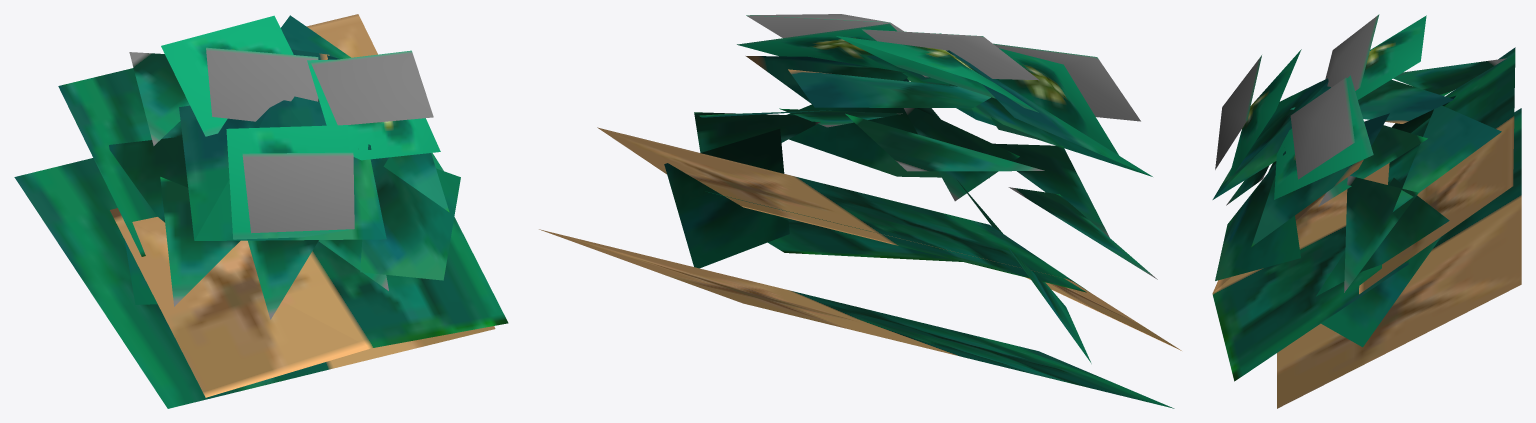
The model's file is fg_bushC_2_pi.dae.
3 renders of one model, left to right at view 1: azimuth 30°, elevation 25°; view 2: azimuth 150°, elevation 25°; view 3: azimuth 270°, elevation 25°, orthographic. The views are drawn at different scales.
Parts seen in each view (by area): view 1: fg_bushC_2_pi; view 2: fg_bushC_2_pi; view 3: fg_bushC_2_pi.
Part boxes in pixels (x1,y1,x2,y2): fg_bushC_2_pi: (14, 14, 508, 408); fg_bushC_2_pi: (539, 14, 1181, 408); fg_bushC_2_pi: (1212, 14, 1521, 408).
Bounding box in the file's own units: 47.83 × 36.01 × 35.4.
1 material, 1 textured.
